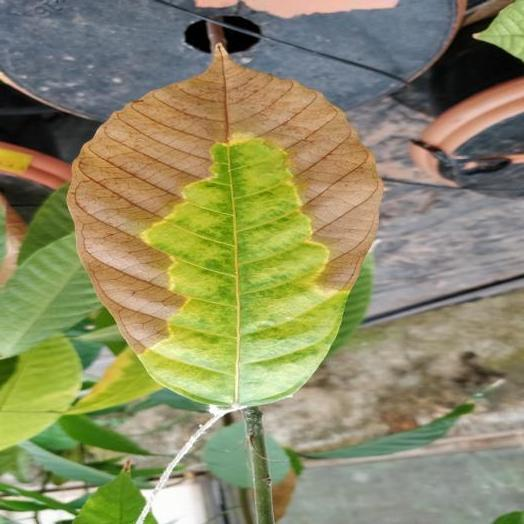Potassium: (68, 45, 381, 410)
